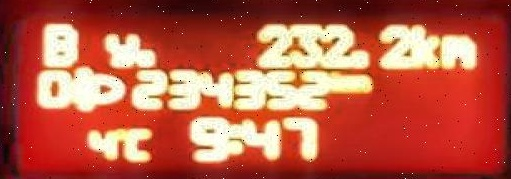-: (350, 48, 368, 69), (138, 45, 153, 67)
0: (31, 67, 70, 110)
2: (250, 20, 290, 67), (375, 20, 410, 70), (127, 66, 163, 111), (295, 68, 328, 111), (321, 21, 350, 68)
3: (288, 21, 320, 68), (167, 65, 198, 111), (233, 66, 263, 110)
4: (240, 115, 278, 161), (198, 68, 232, 109), (81, 125, 115, 161)
5: (263, 67, 295, 110)
7: (282, 114, 322, 161)
9: (185, 114, 226, 164)
X: (38, 19, 80, 69), (98, 29, 138, 68), (410, 20, 440, 70), (440, 32, 478, 70), (122, 124, 153, 164), (348, 73, 372, 93), (330, 70, 348, 92), (228, 120, 238, 157)
